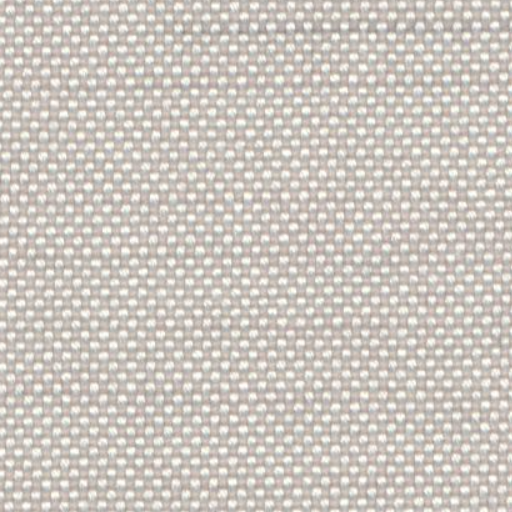WuZi: (193, 14, 484, 38)
